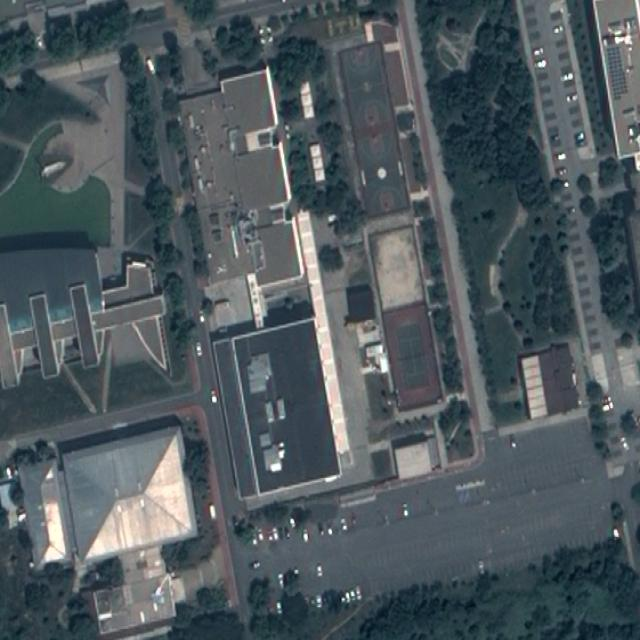Batiment: (19, 421, 198, 634), (181, 69, 301, 284), (214, 319, 339, 497), (370, 226, 441, 409), (339, 42, 409, 216), (395, 441, 431, 479)
